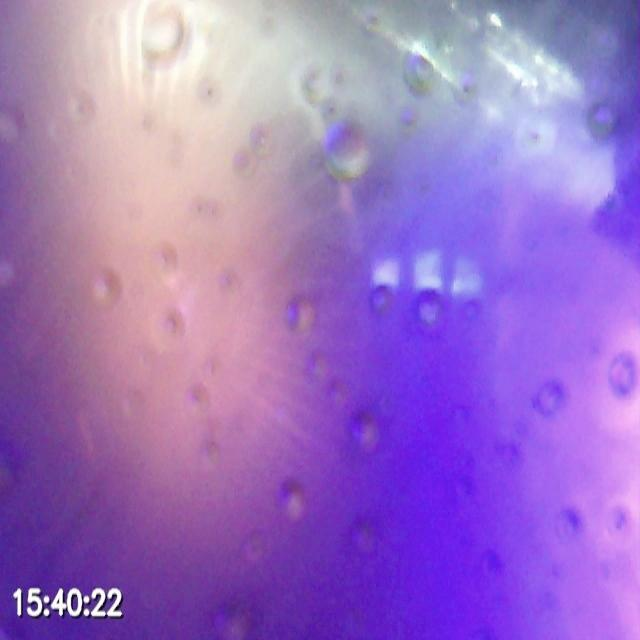white-dots: (370, 248, 484, 298)
